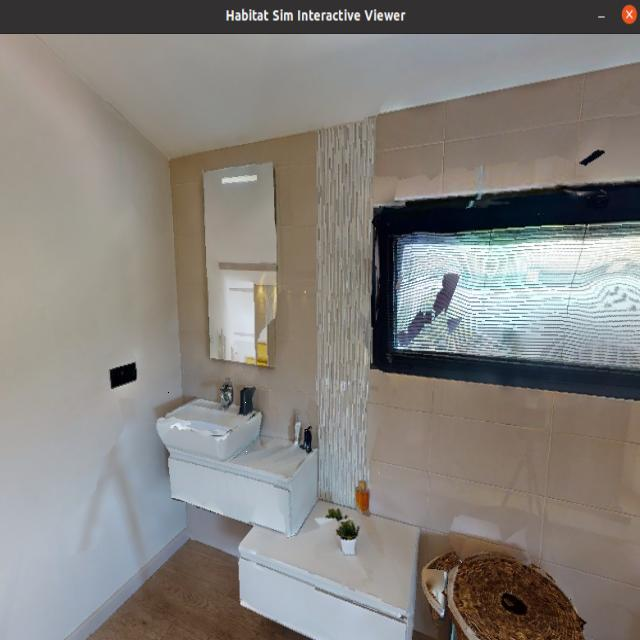sink: (162, 383, 274, 471)
